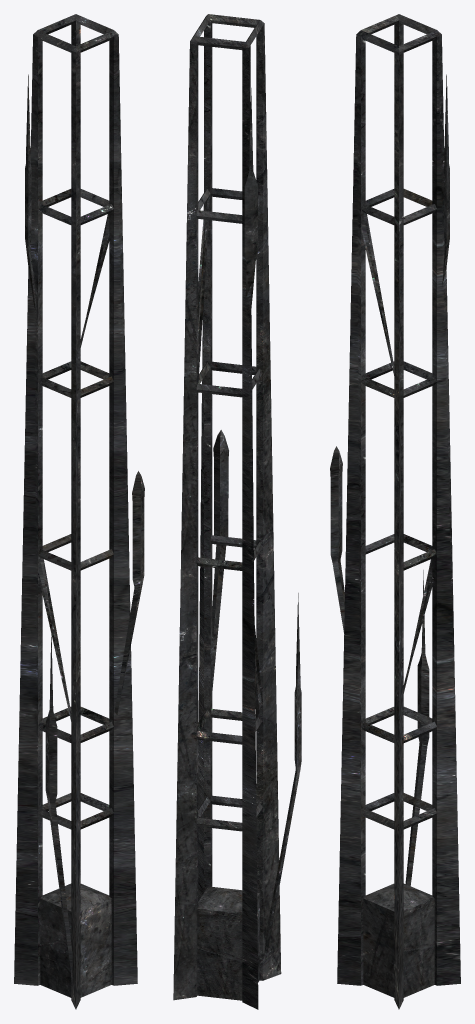
Rendered from city_02.obj.
3 renders of one model, left to right at view 1: azimuth 90°, elevation 25°; view 2: azimuth 210°, elevation 25°; view 3: azimuth 270°, elevation 25°, orthographic.
Visible parts, largest first — view 1: Cube.032_Cube.039; view 2: Cube.032_Cube.039; view 3: Cube.032_Cube.039.
Part boxes in pixels (x1=…): Cube.032_Cube.039: x1=14, y1=14, x2=144, y2=1009; Cube.032_Cube.039: x1=173, y1=14, x2=301, y2=1009; Cube.032_Cube.039: x1=330, y1=14, x2=460, y2=1009.
Bounding box in the file's own units: 14.08 × 110 × 13.75.
1 material, 1 textured.
